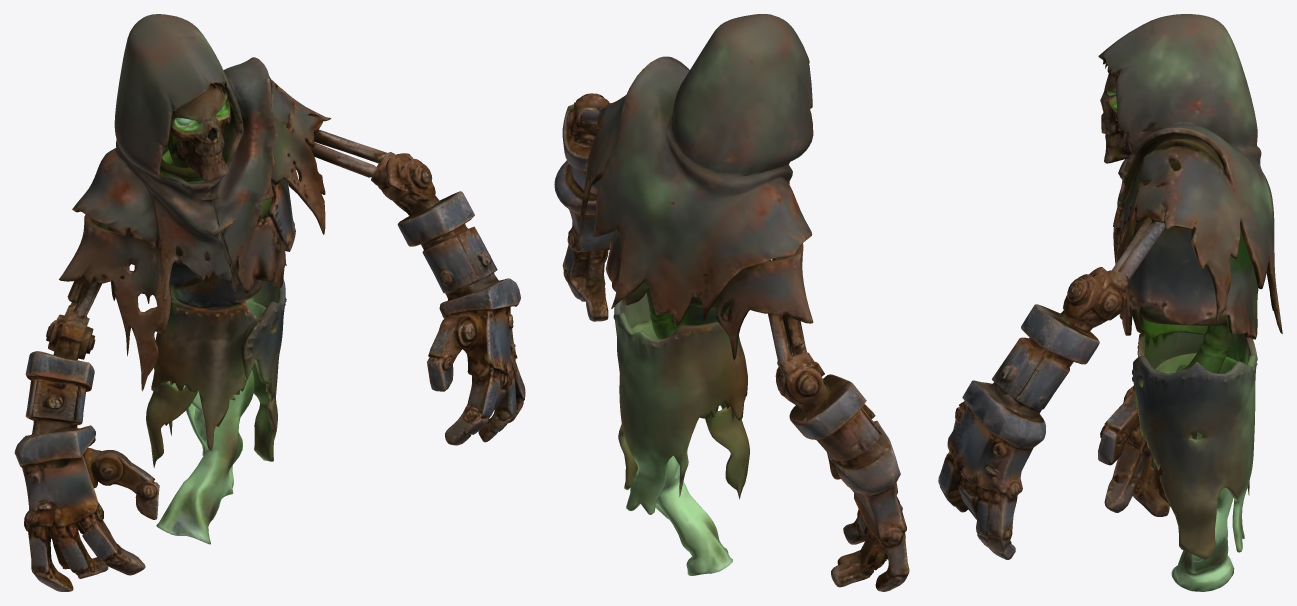
Rendered from pixellabs-undead-3417.glb.
The picture shows the model from 3 angles, left to right: view 1: azimuth 30°, elevation 25°; view 2: azimuth 150°, elevation 25°; view 3: azimuth 270°, elevation 25°; orthographic projection. The views are drawn at different scales.
Parts seen in each view (by area): view 1: material; view 2: material; view 3: material.
Part boxes in pixels (left/top/right/bottom): material: left=14, top=14, right=525, bottom=591; material: left=554, top=14, right=909, bottom=591; material: left=938, top=14, right=1282, bottom=591.
Bounding box in the file's own units: 0.7943 × 0.9751 × 0.5527.
Materials: 1 (1 with a texture image).
